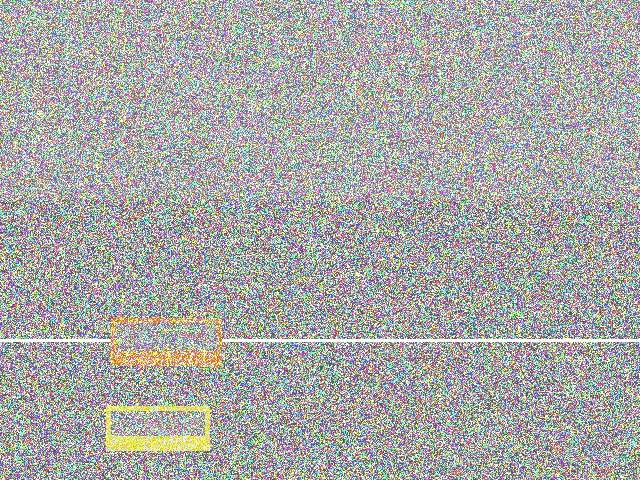car: (383, 217, 478, 312)
motorcycle: (492, 153, 608, 284), (245, 333, 354, 389)
